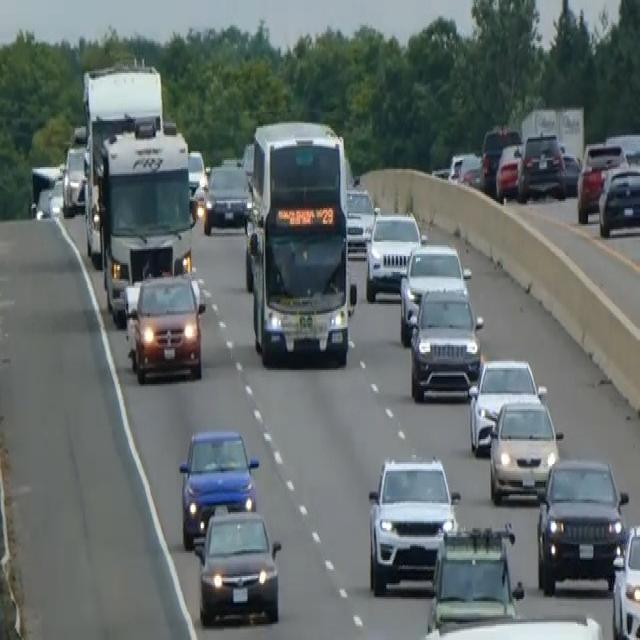bus: (243, 116, 356, 368), (95, 121, 196, 323)
car: (366, 454, 460, 596), (535, 455, 629, 596), (425, 521, 524, 633), (193, 505, 282, 626), (177, 427, 259, 548), (125, 270, 205, 382), (408, 283, 483, 402), (487, 391, 563, 505), (467, 356, 545, 455), (398, 242, 471, 345), (364, 208, 421, 302), (576, 139, 626, 222), (516, 130, 566, 202), (202, 160, 249, 235), (611, 521, 639, 638), (597, 162, 639, 238), (480, 124, 520, 194), (345, 183, 377, 254), (29, 162, 62, 218), (61, 144, 87, 215), (494, 140, 523, 201), (447, 149, 481, 187), (187, 147, 206, 195)
lorry: (408, 612, 606, 638)
